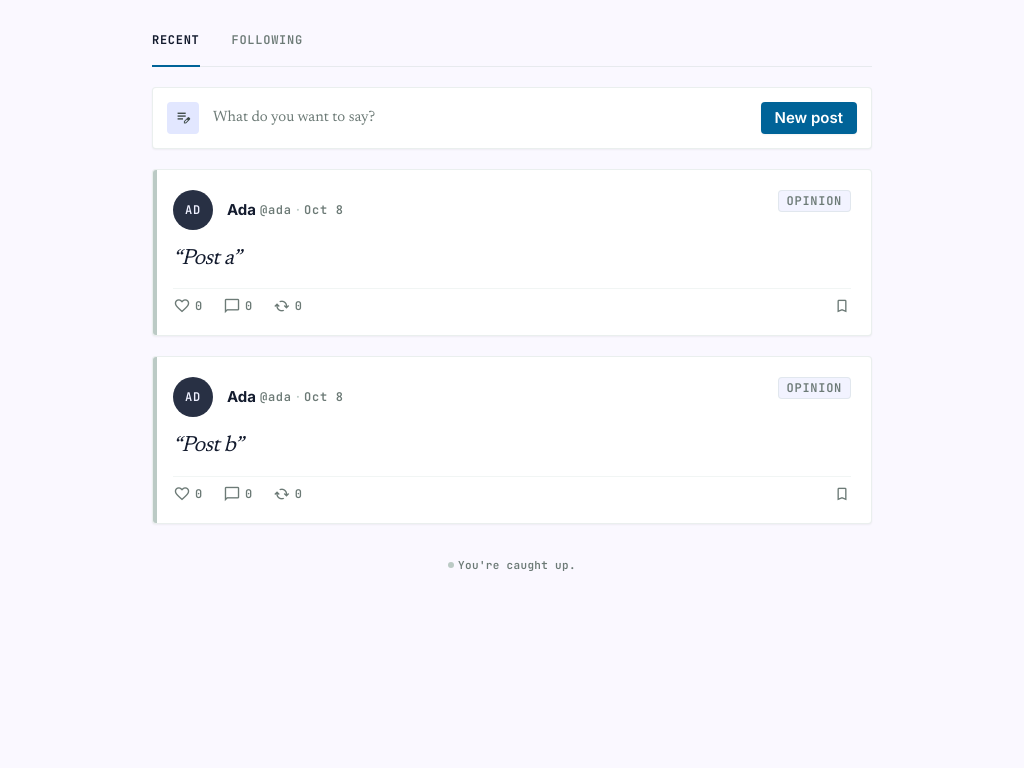
Scenario: HomeFeed › puts a post made in the composer at the top, without reloading the feed
The width and height of the screenshot is (1024, 768).
Click the button "What do you want to say? New post" at (183, 118), box [167, 102, 857, 134]
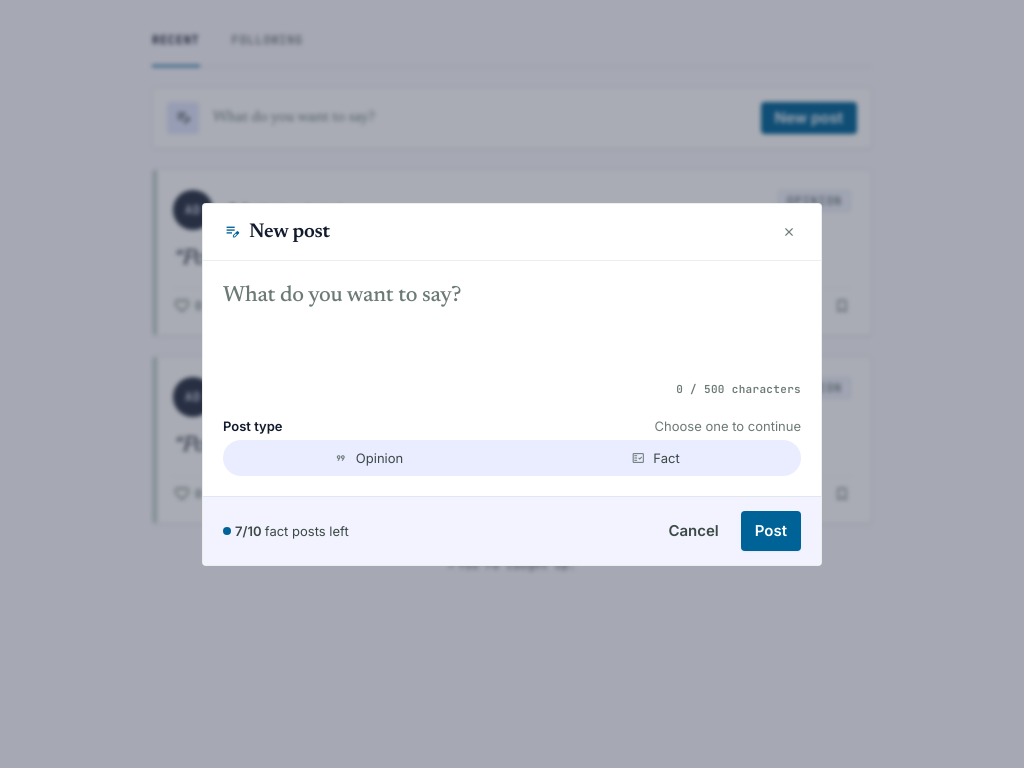
Click the radio button labelled "Opinion" at (368, 458), box [227, 444, 510, 472]
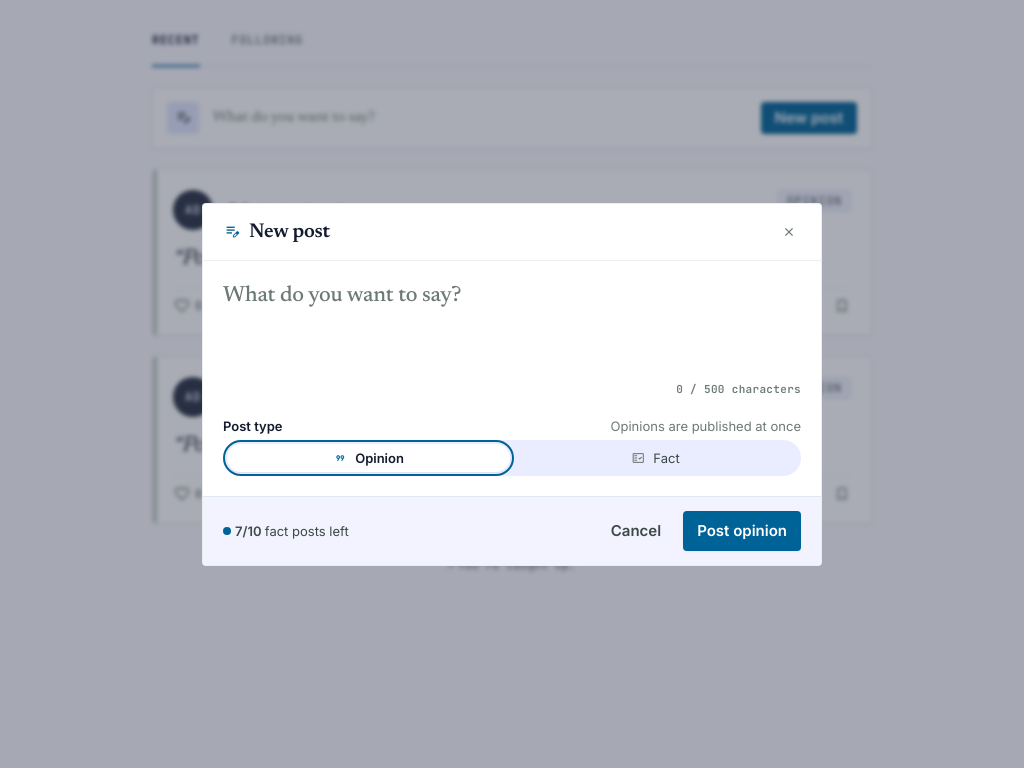
Type "Brand new post" into the text box named "Post text" at (512, 326), box [223, 280, 801, 370]
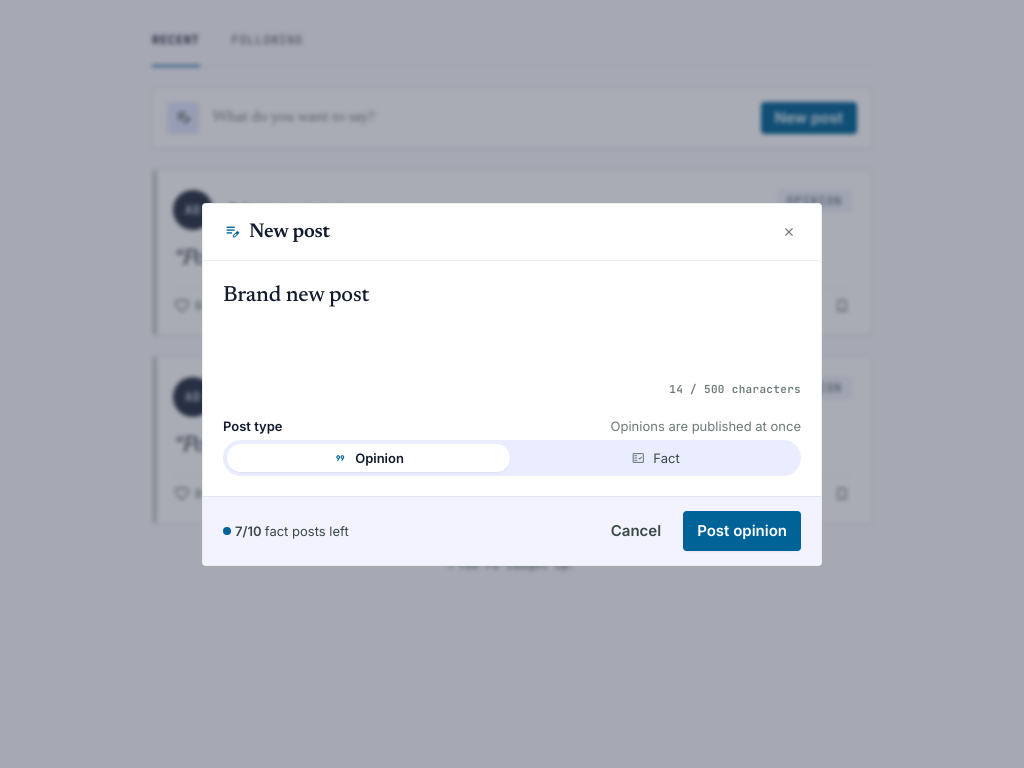
Click the button "Post opinion" at (742, 530), box [683, 510, 801, 550]
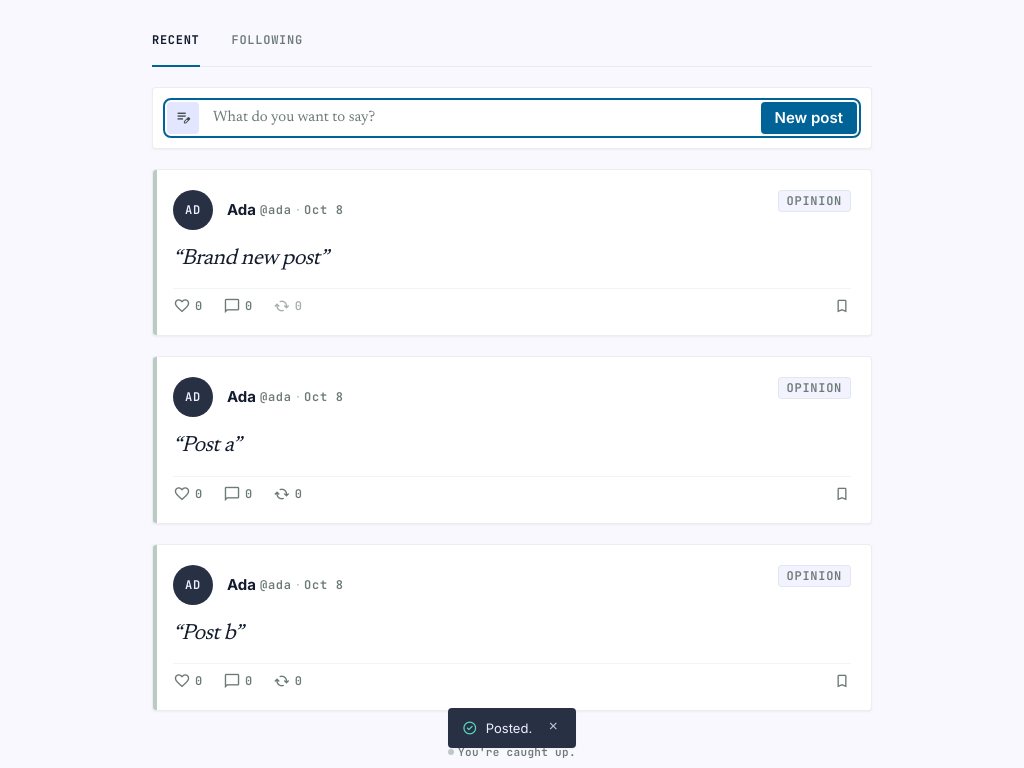
Result: the link "“Brand new post”" is shown at [173, 248, 328, 270]
